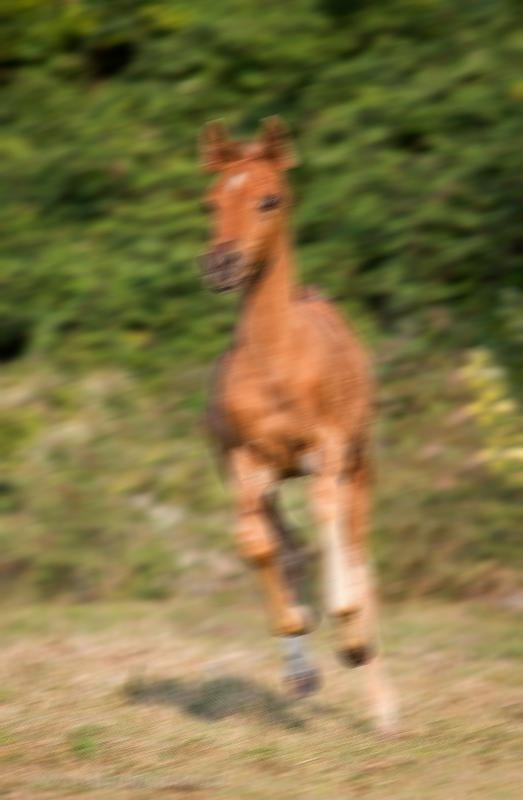horse: (196, 114, 404, 740)
